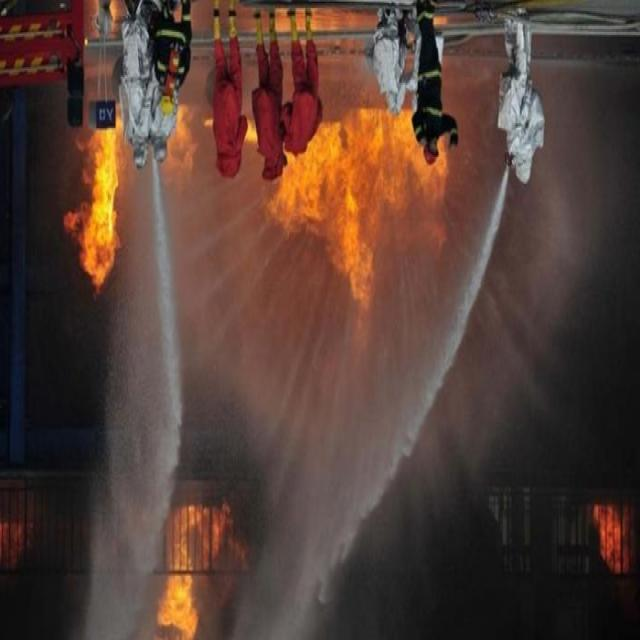fire: (256, 107, 465, 304), (140, 472, 238, 636), (68, 114, 135, 281), (568, 476, 633, 584)
person: (116, 0, 194, 171), (489, 7, 545, 180), (408, 2, 459, 168), (250, 27, 290, 179), (284, 36, 323, 159)
